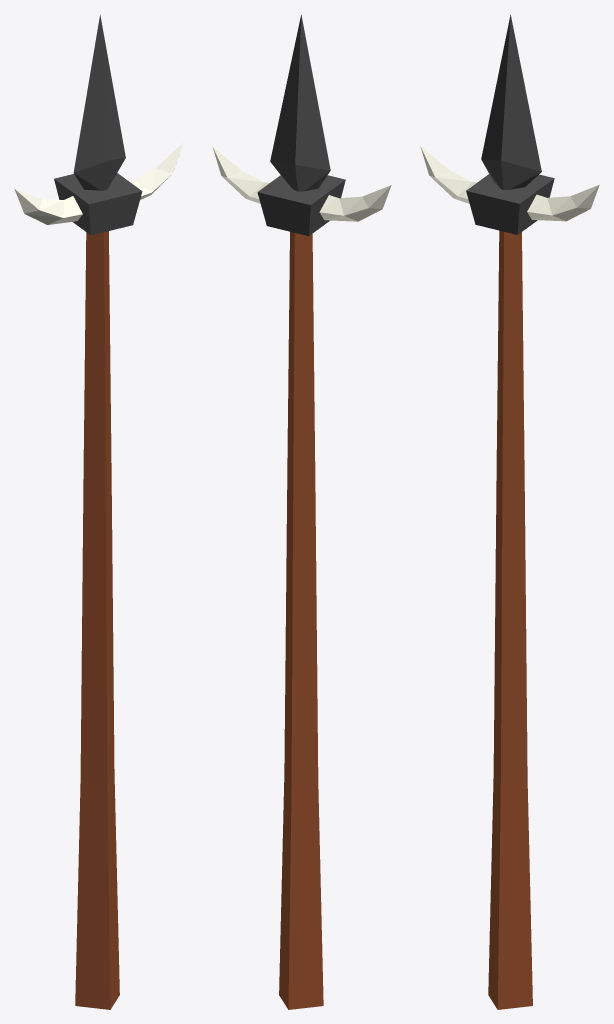
The model's file is Prop_Timber_Spear_Flag_Pole_01.FBX.
The picture shows the model from 3 angles, left to right: view 1: azimuth 30°, elevation 25°; view 2: azimuth 150°, elevation 25°; view 3: azimuth 330°, elevation 25°; orthographic projection.
Visible parts, largest first — view 1: Prop_Timber_Spear_Flag_Pole_01; view 2: Prop_Timber_Spear_Flag_Pole_01; view 3: Prop_Timber_Spear_Flag_Pole_01.
Boxes of the visible parts, x1,y1,x2,y2 form: Prop_Timber_Spear_Flag_Pole_01: (14,14,183,1009); Prop_Timber_Spear_Flag_Pole_01: (212,15,391,1009); Prop_Timber_Spear_Flag_Pole_01: (420,15,599,1009).
Bounding box in the file's own units: 798 × 4311 × 277.
